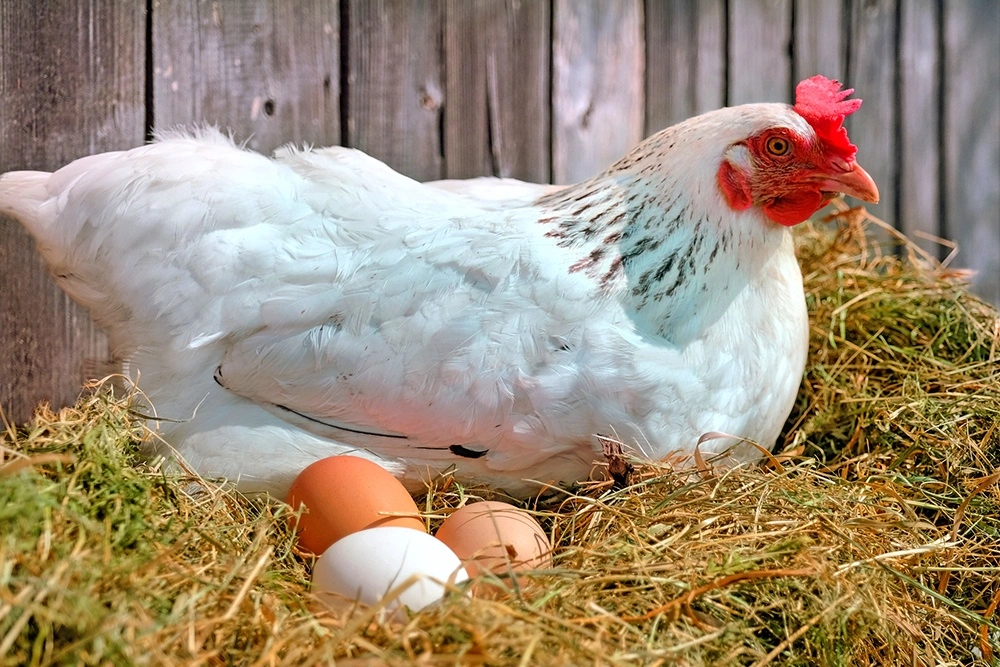chicken: (41, 81, 870, 496)
